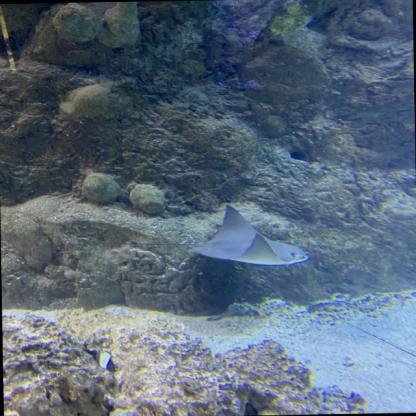stingray: (190, 203, 309, 266)
